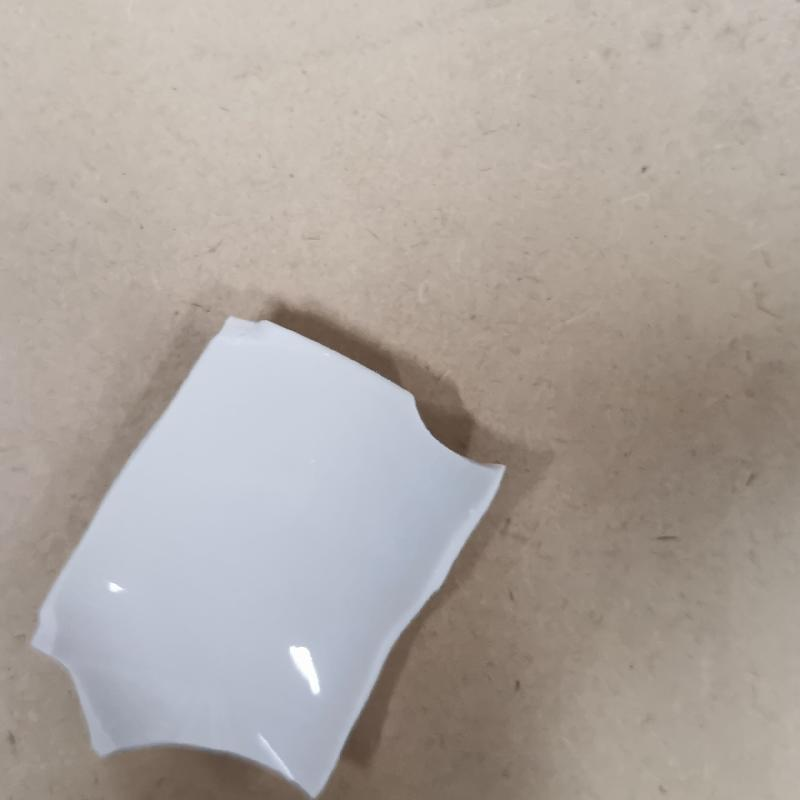ceram: (26, 311, 509, 799)
